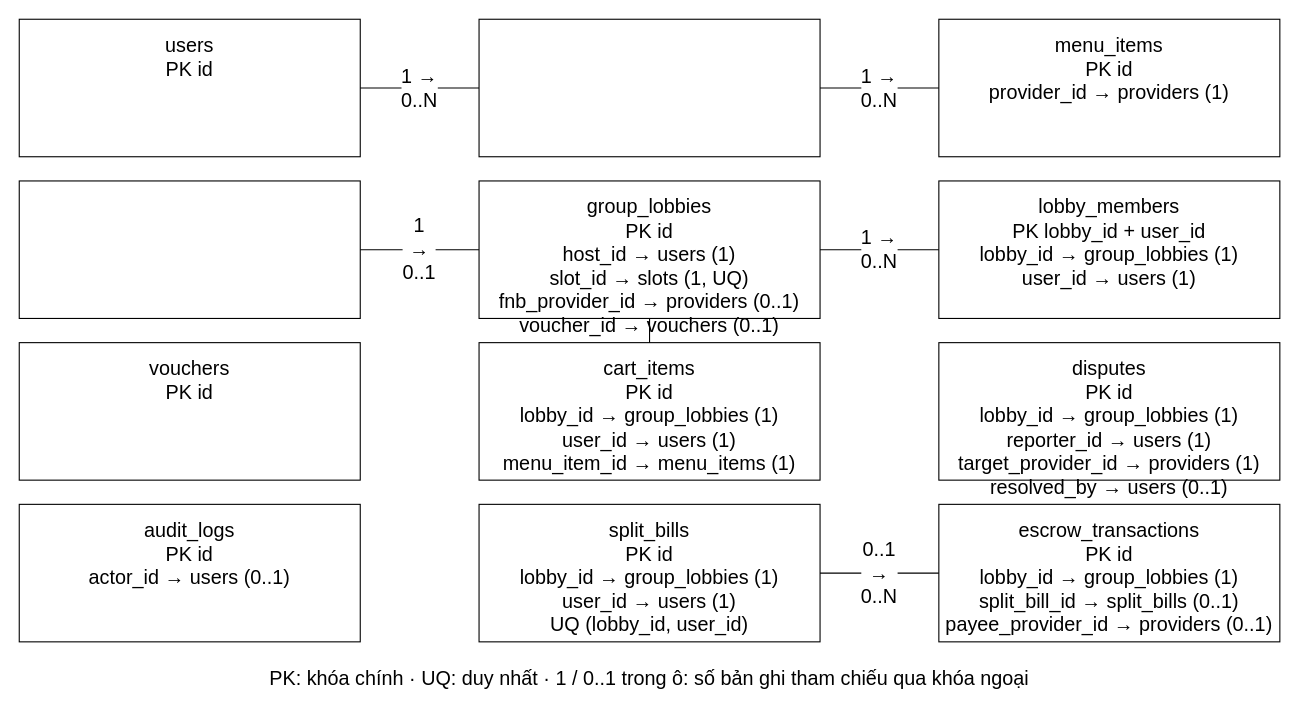
The diagram is 1299 pixels wide and 714 high, and some of its shapes have lost their labels. Here are the shapes that lost their labels. From the top down, the box of each, then its label:
(478, 18, 820, 157): providers PK id owner_id → users (1)
(18, 180, 360, 318): slots PK id provider_id → providers (1) locked_by → users (0..1)
